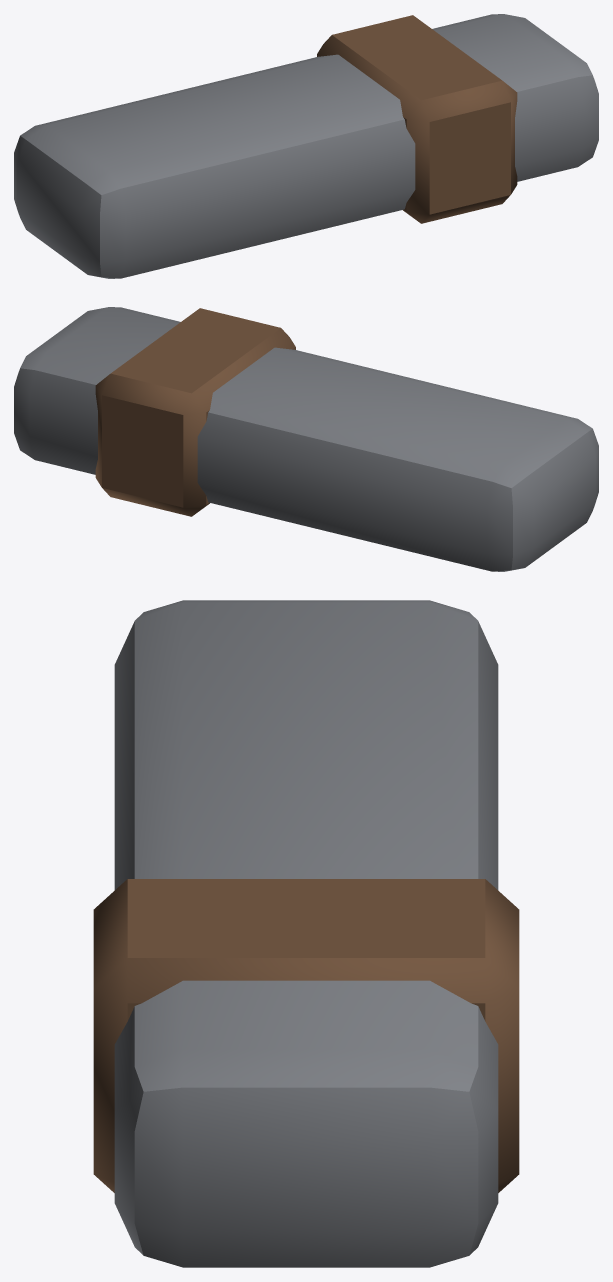
The model's file is whetstone.glb.
3 renders of one model, top to bottom at view 1: azimuth 30°, elevation 25°; view 2: azimuth 150°, elevation 25°; view 3: azimuth 270°, elevation 25°, orthographic. The views are drawn at different scales.
Parts seen in each view (by area): view 1: whetstone; view 2: whetstone; view 3: whetstone.
Part boxes in pixels (x1,y1,x2,y2): whetstone: (14, 14, 598, 278); whetstone: (14, 307, 598, 571); whetstone: (93, 600, 519, 1267).
Bounding box in the file's own units: 0.14 × 0.032 × 0.05.
